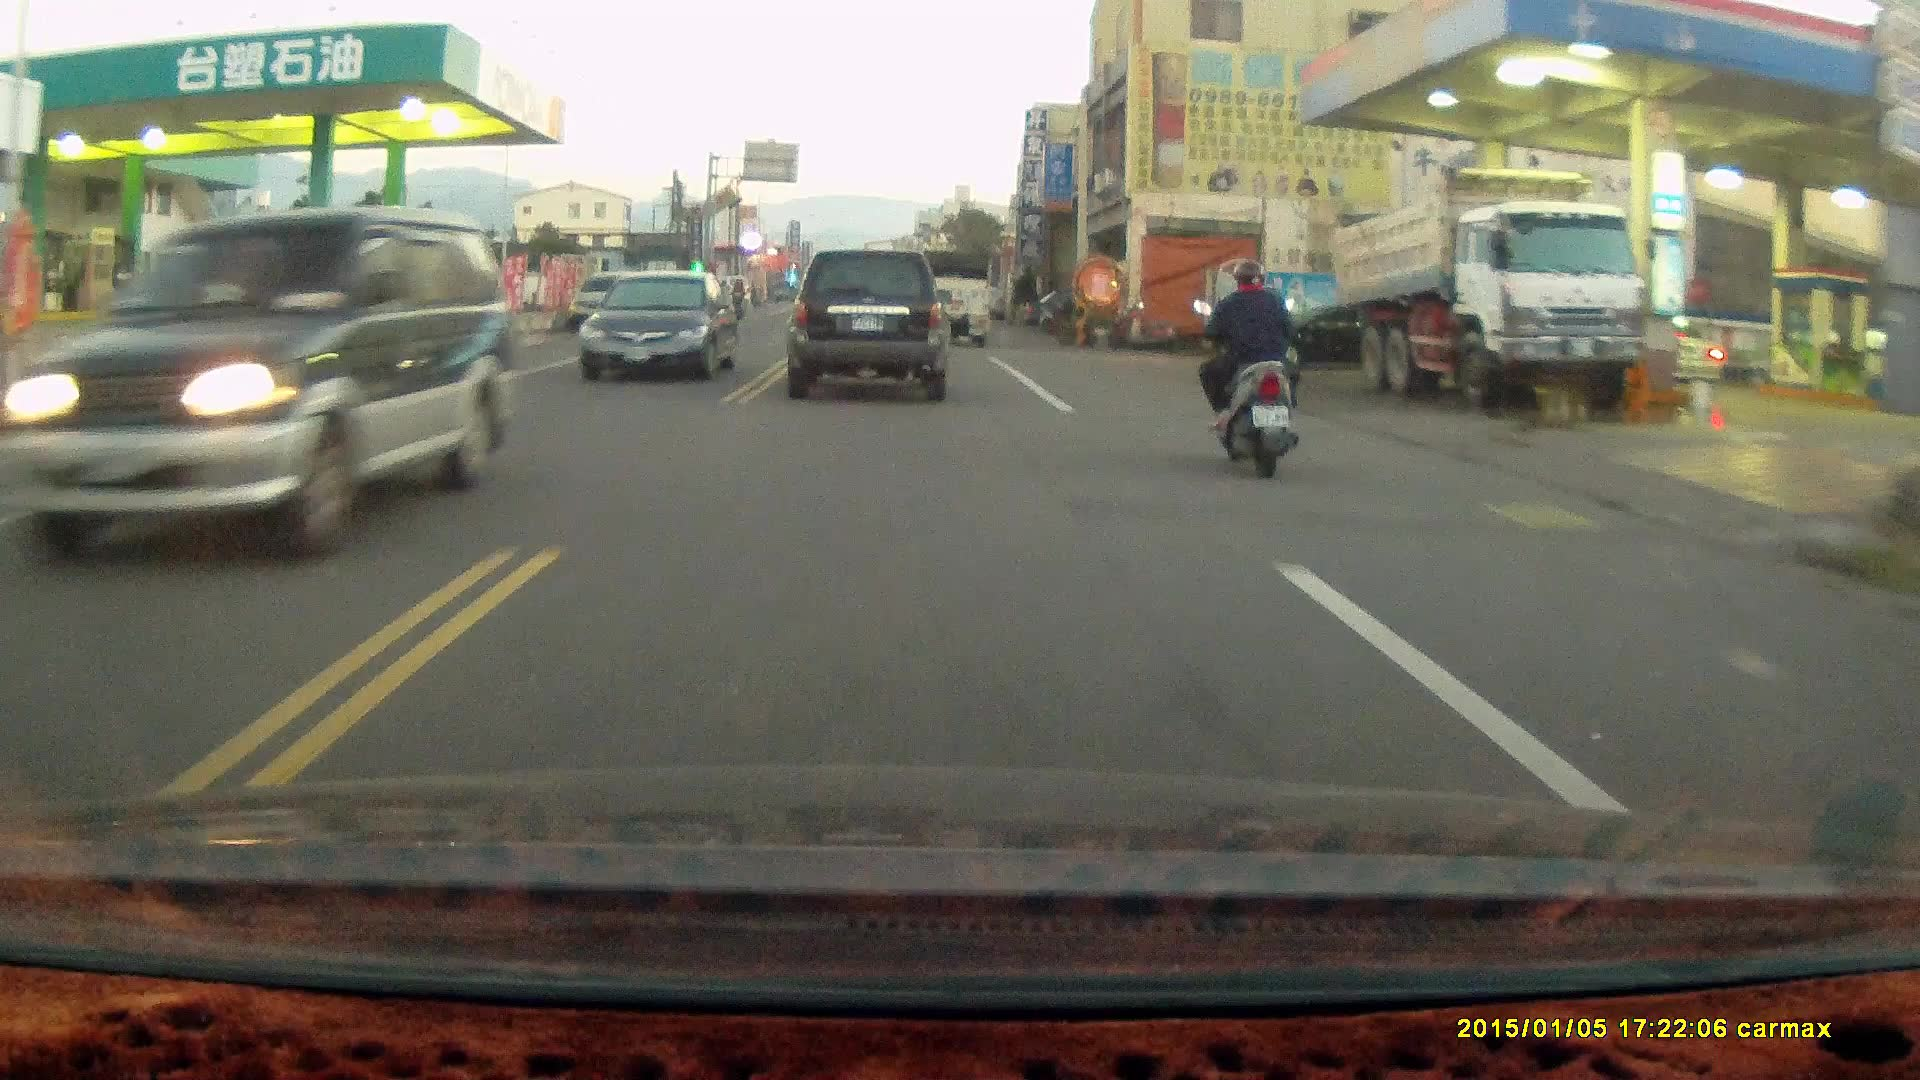rider: (1193, 260, 1301, 482)
vehicle: (15, 216, 520, 571), (1333, 169, 1646, 404), (793, 249, 953, 403), (581, 270, 742, 388), (900, 251, 993, 349)
